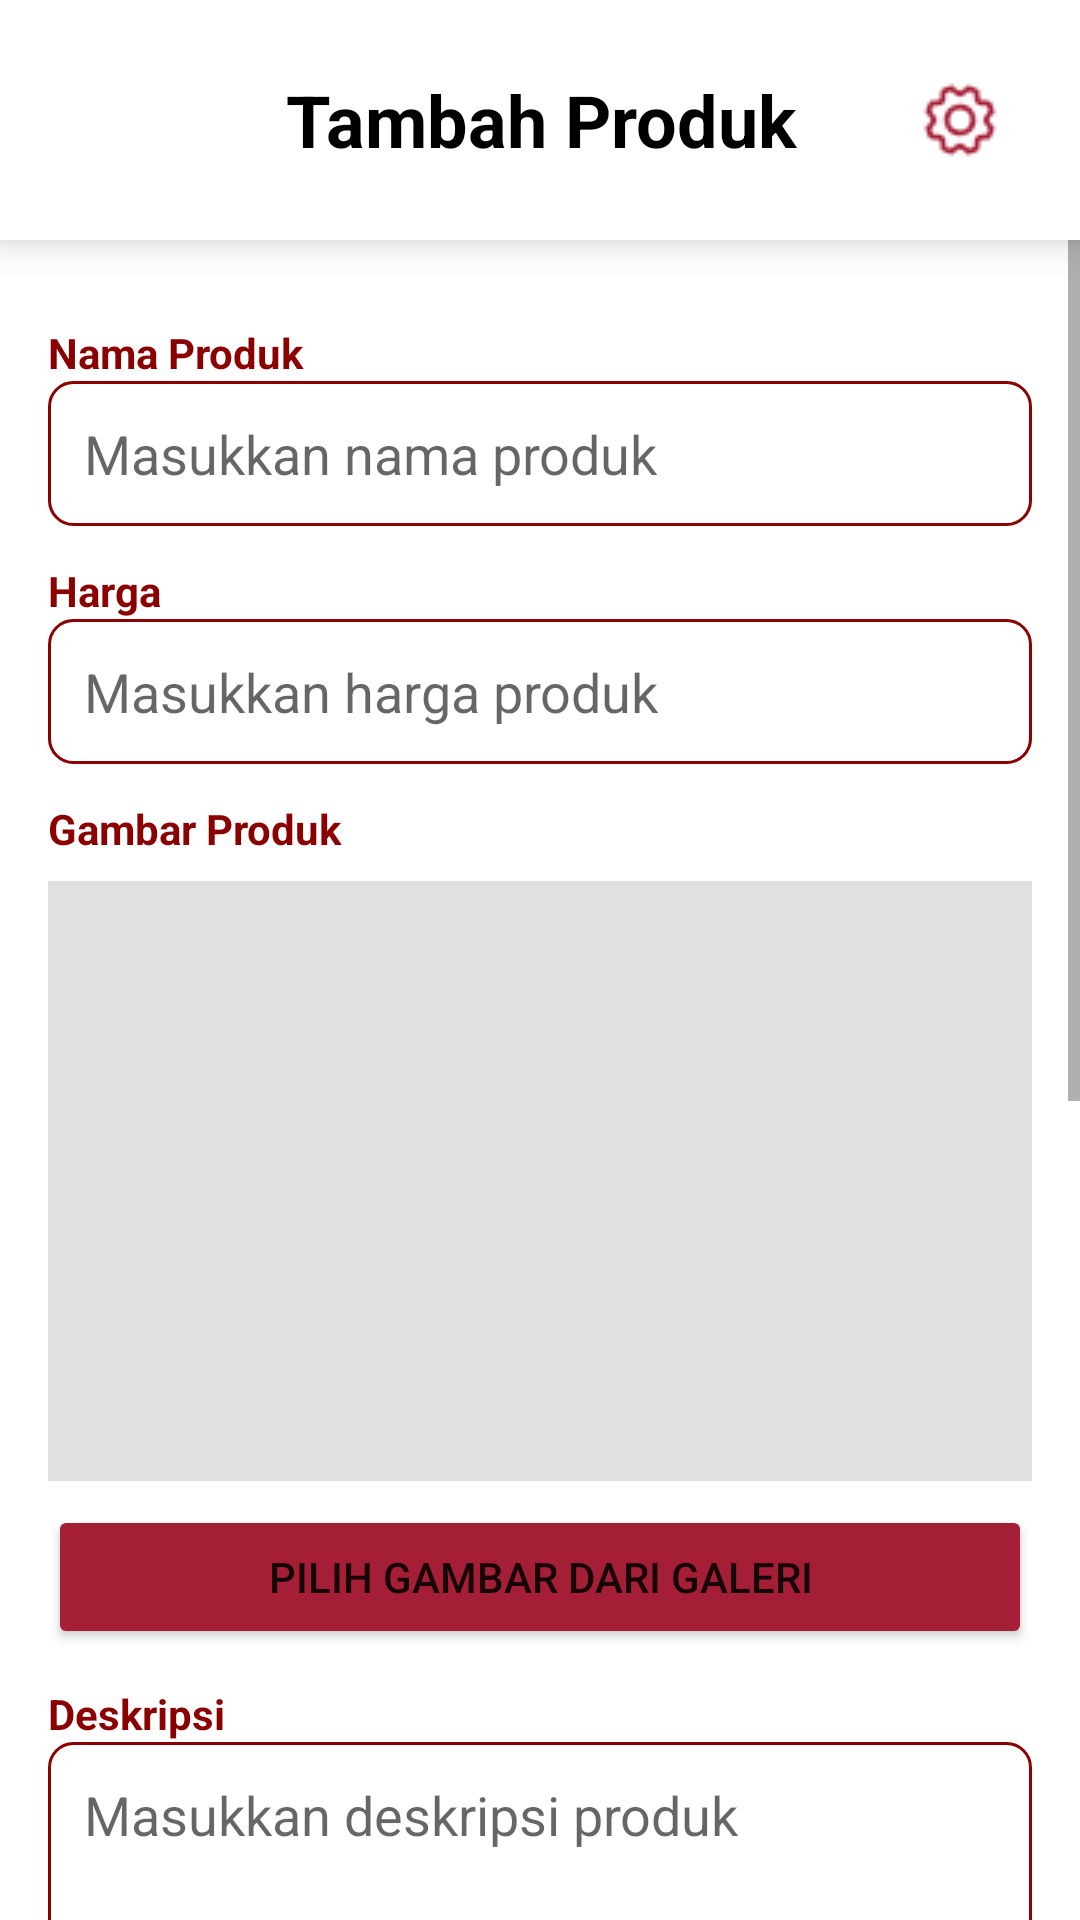

Icon bounding boxes for this 1080px x 1920px phone screenshot, format bbox=[x1, y1, x2, y2]:
Setting: bbox=[923, 83, 997, 157]
